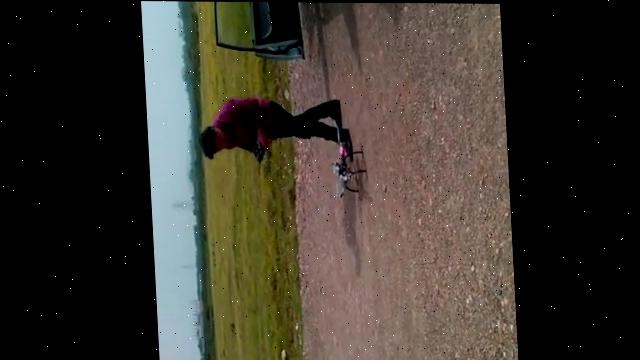drone: (326, 127, 364, 203)
